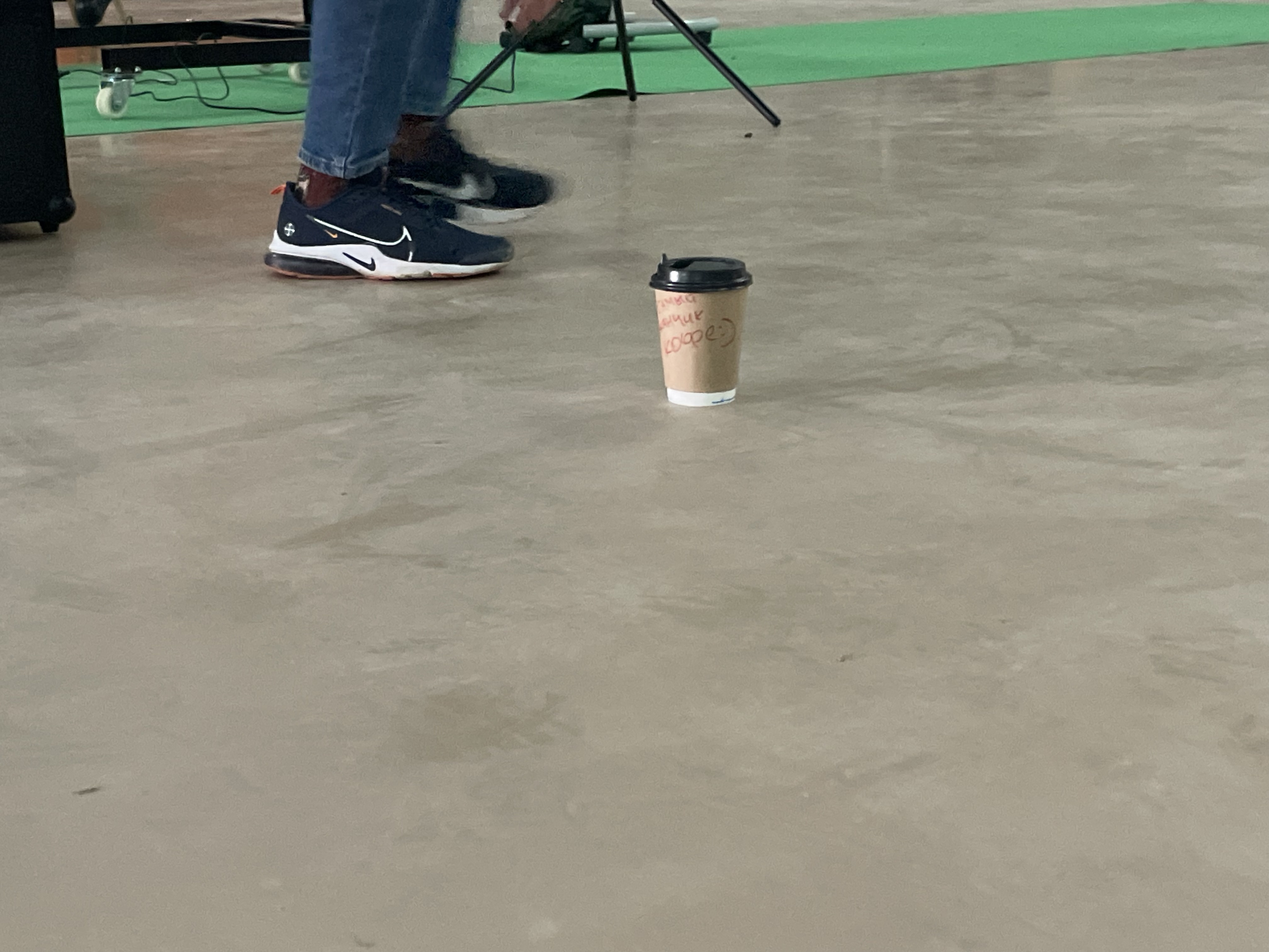cup: (648, 253, 753, 408)
